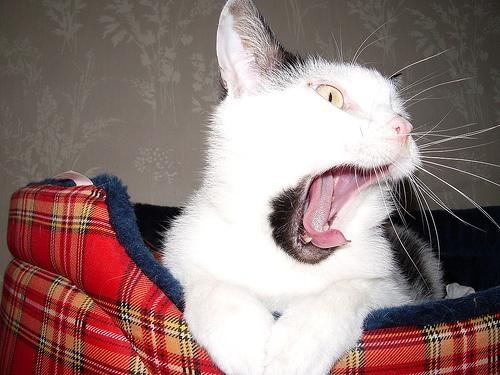cat: (160, 1, 448, 375)
